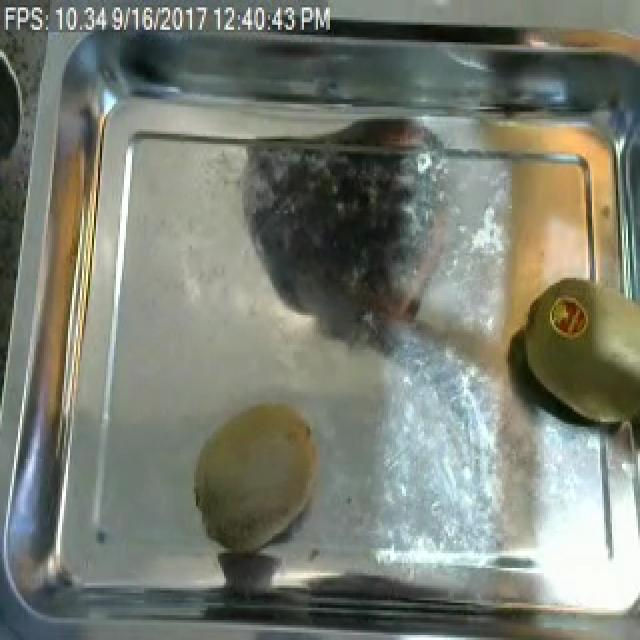Fruit: (184, 392, 332, 563), (510, 268, 640, 439)
